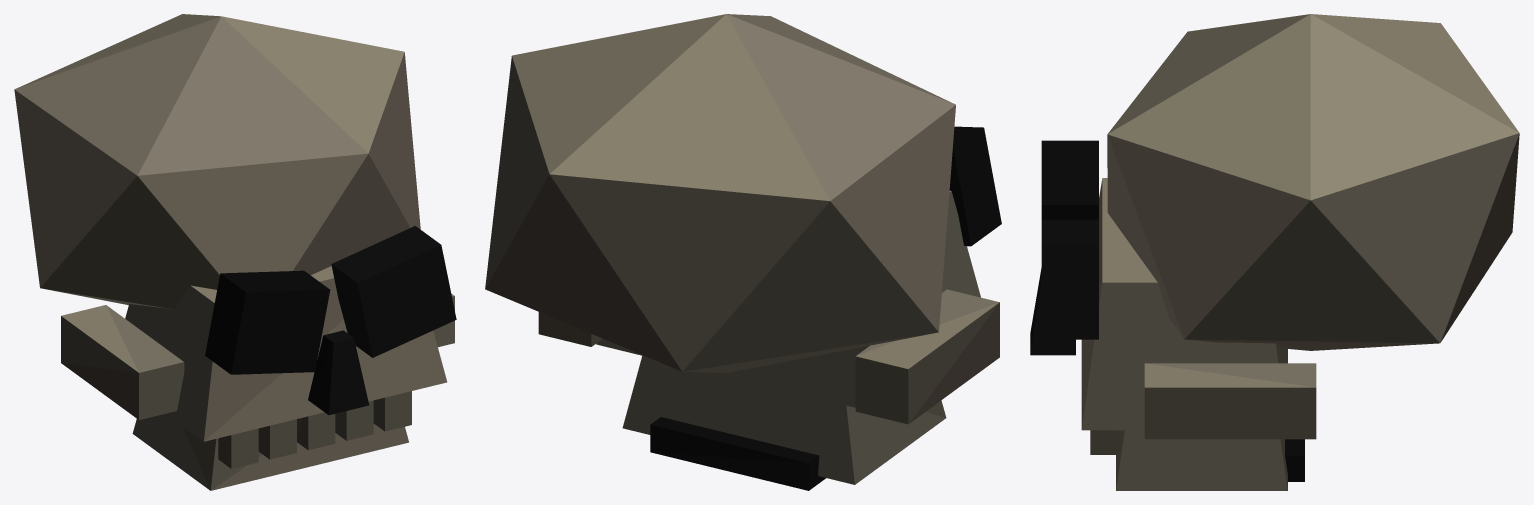
Rendered from skull.gltf.
The picture shows the model from 3 angles, left to right: view 1: azimuth 30°, elevation 25°; view 2: azimuth 150°, elevation 25°; view 3: azimuth 270°, elevation 25°; orthographic projection. The views are drawn at different scales.
Visible parts, largest first — view 1: skull; view 2: skull; view 3: skull.
Part boxes in pixels (box(x1,y1,x2,y2)): skull: box(14, 14, 456, 490); skull: box(485, 14, 1001, 490); skull: box(1030, 14, 1519, 490).
Bounding box in the file's own units: 0.8084 × 0.8319 × 0.855.
1 material, 1 textured.
